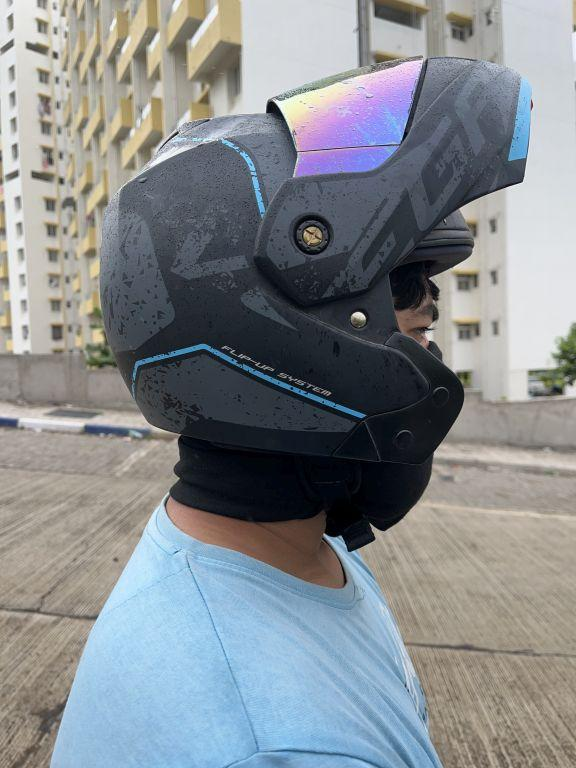helmet: (77, 47, 541, 519)
